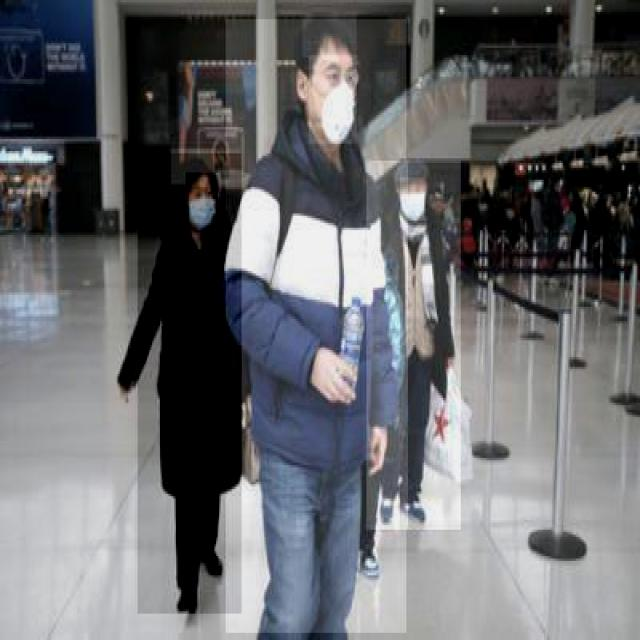face_mask: (309, 55, 358, 146), (186, 172, 216, 235), (400, 177, 427, 223)
hand_noglove: (310, 344, 358, 409), (365, 423, 390, 481)
head_nohelmet: (302, 14, 358, 60), (171, 149, 216, 187)
person: (226, 19, 408, 635), (138, 153, 243, 616), (367, 161, 462, 532)
shoes: (169, 573, 202, 621), (199, 534, 230, 582), (396, 486, 426, 526), (376, 486, 398, 526)
